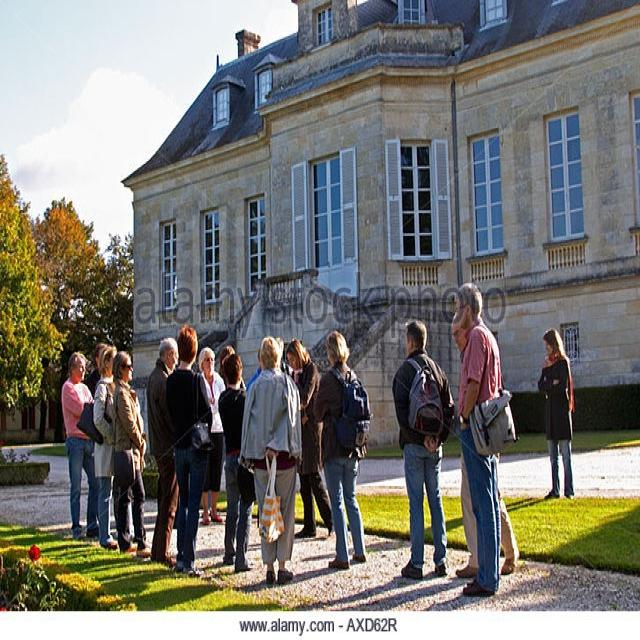body: (107, 488, 538, 616), (454, 279, 522, 600), (450, 312, 521, 581), (390, 315, 459, 582), (236, 334, 304, 591), (310, 328, 375, 572), (164, 322, 213, 580), (284, 338, 335, 542), (109, 348, 156, 560), (216, 352, 258, 572), (59, 350, 102, 544), (146, 337, 180, 568), (536, 325, 576, 502), (196, 345, 227, 528), (92, 344, 119, 552), (218, 332, 290, 380), (88, 340, 108, 386)
